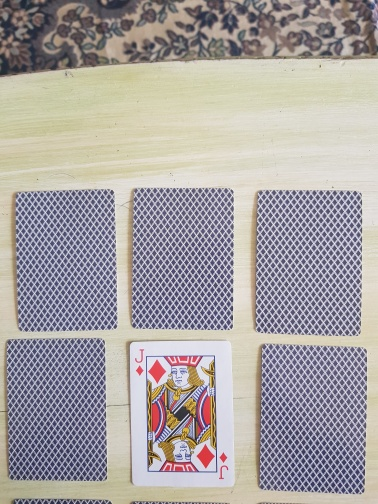jack: (129, 340, 236, 488)
